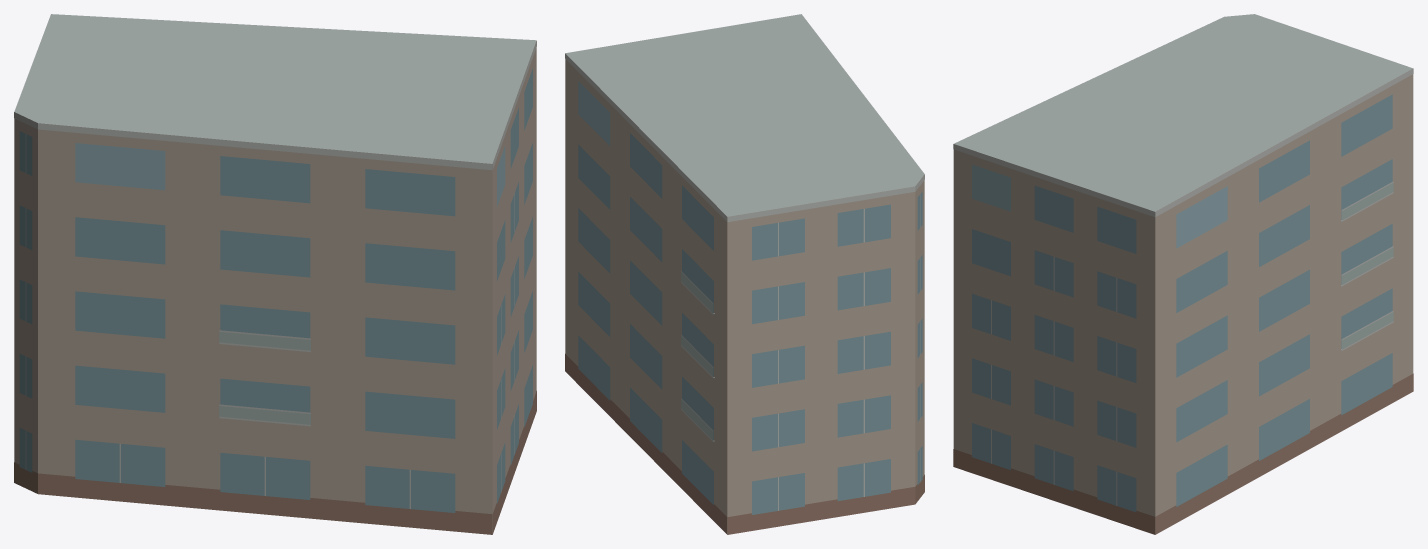
File: survey-upis-32851465.glb
The picture shows the model from 3 angles, left to right: view 1: azimuth 30°, elevation 25°; view 2: azimuth 150°, elevation 25°; view 3: azimuth 270°, elevation 25°; orthographic projection. The views are drawn at different scales.
Parts seen in each view (by area): view 1: survey-upis-32851465.tmp; view 2: survey-upis-32851465.tmp; view 3: survey-upis-32851465.tmp.
Boxes of the visible parts, x1,y1,x2,y2 form: survey-upis-32851465.tmp: (14, 14, 536, 534); survey-upis-32851465.tmp: (565, 14, 924, 534); survey-upis-32851465.tmp: (953, 14, 1413, 534).
Bounding box in the file's own units: 18.85 × 14.35 × 18.52.
